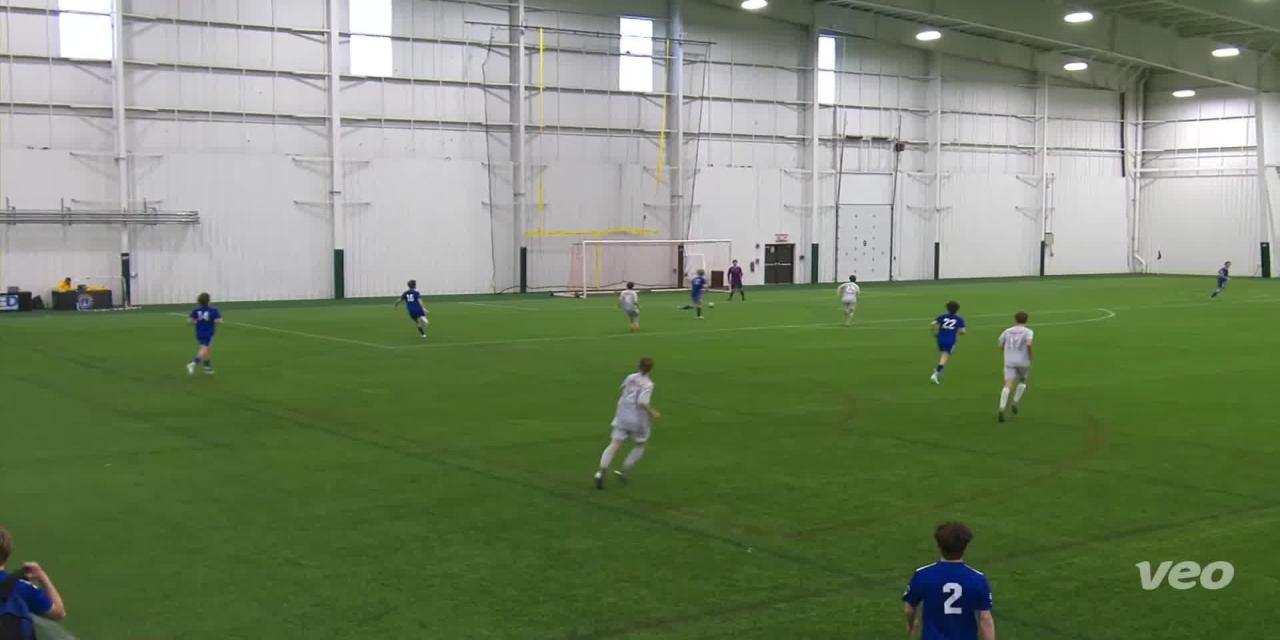sports ball: (706, 300, 718, 313)
